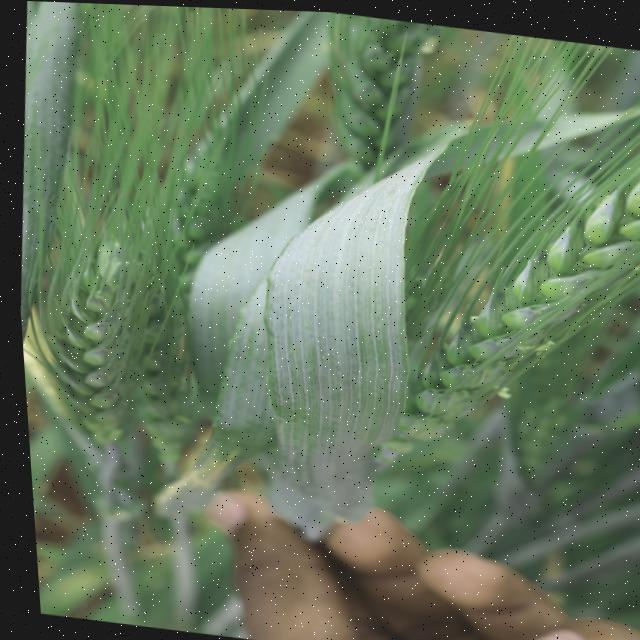healthy_wheat: (0, 0, 284, 637), (361, 17, 640, 497), (227, 191, 427, 541), (278, 8, 489, 208)
